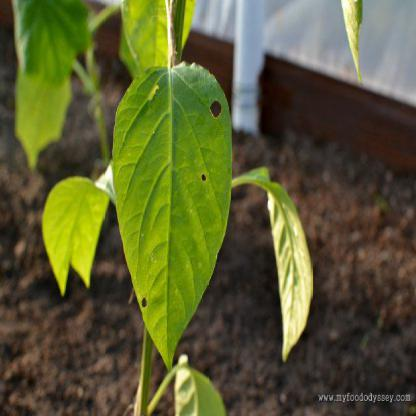bell pepper leaf: (111, 62, 233, 378)
